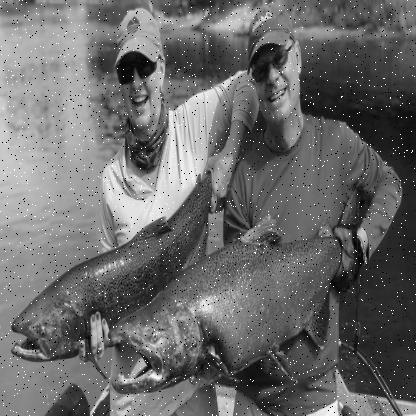fish: (104, 176, 366, 402), (6, 148, 235, 372)
